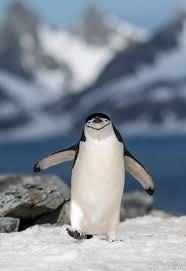chinstrap: (37, 117, 155, 255)
